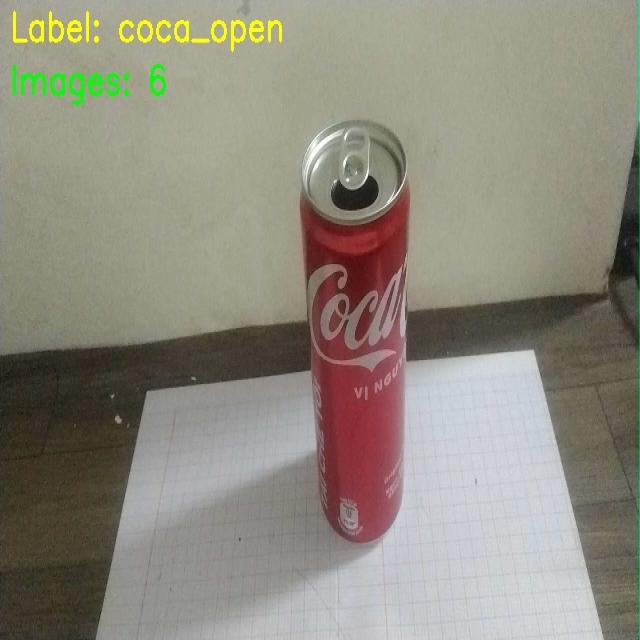Coca_open: (280, 103, 444, 543)
